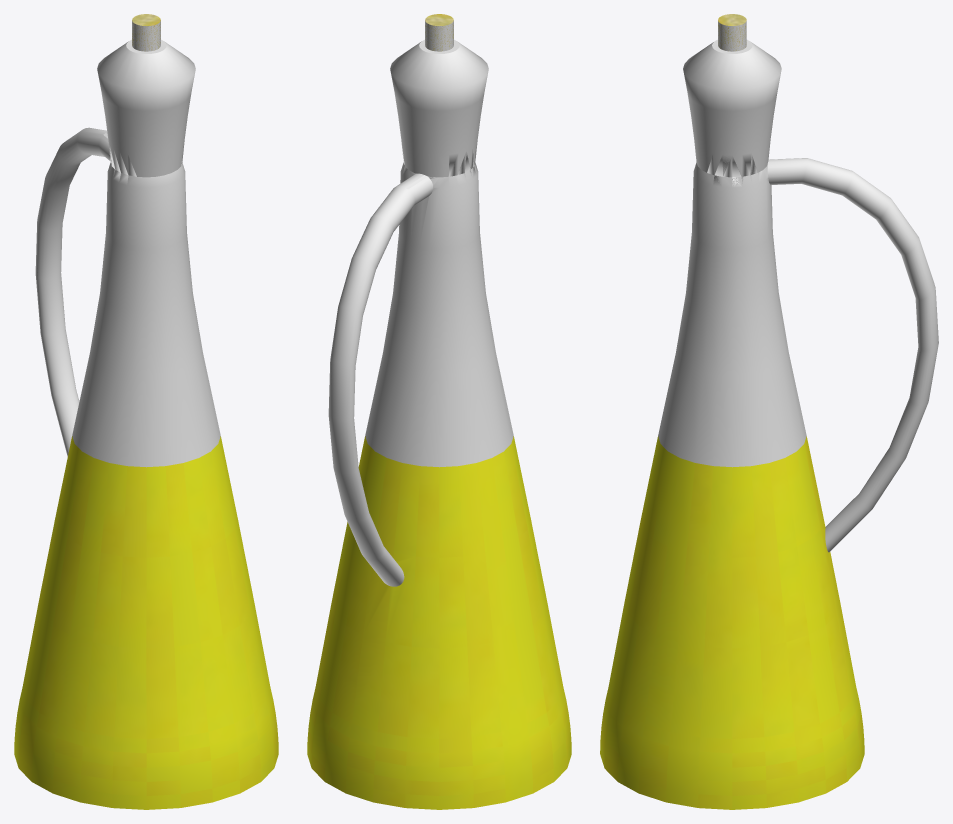
Rendered from aceite.glb.
The picture shows the model from 3 angles, left to right: view 1: azimuth 30°, elevation 25°; view 2: azimuth 150°, elevation 25°; view 3: azimuth 270°, elevation 25°; orthographic projection.
Visible parts, largest first — view 1: instance_0.001, instance_0.002, instance_0.006; view 2: instance_0.001, instance_0.002, instance_0.006; view 3: instance_0.001, instance_0.002, instance_0.006.
Part boxes in pixels (x1=…): instance_0.001: x1=14, y1=436, x2=278, y2=809; instance_0.002: x1=35, y1=39, x2=220, y2=467; instance_0.006: x1=132, y1=20, x2=160, y2=51; instance_0.001: x1=307, y1=436, x2=571, y2=809; instance_0.002: x1=328, y1=39, x2=513, y2=586; instance_0.006: x1=425, y1=20, x2=453, y2=51; instance_0.001: x1=600, y1=436, x2=864, y2=809; instance_0.002: x1=658, y1=39, x2=938, y2=552; instance_0.006: x1=718, y1=21, x2=746, y2=51.
Size of the model in its own units: 0.6044 by 1.85 by 0.7738.
Materials: 4 (2 with a texture image).
